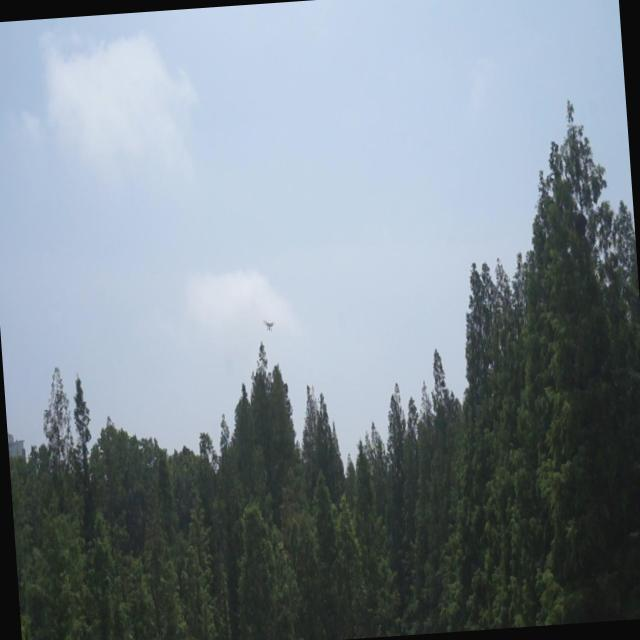drone: (261, 313, 276, 334)
